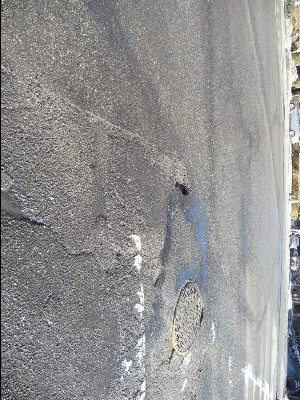pothole: (0, 184, 43, 228), (172, 163, 191, 197)
